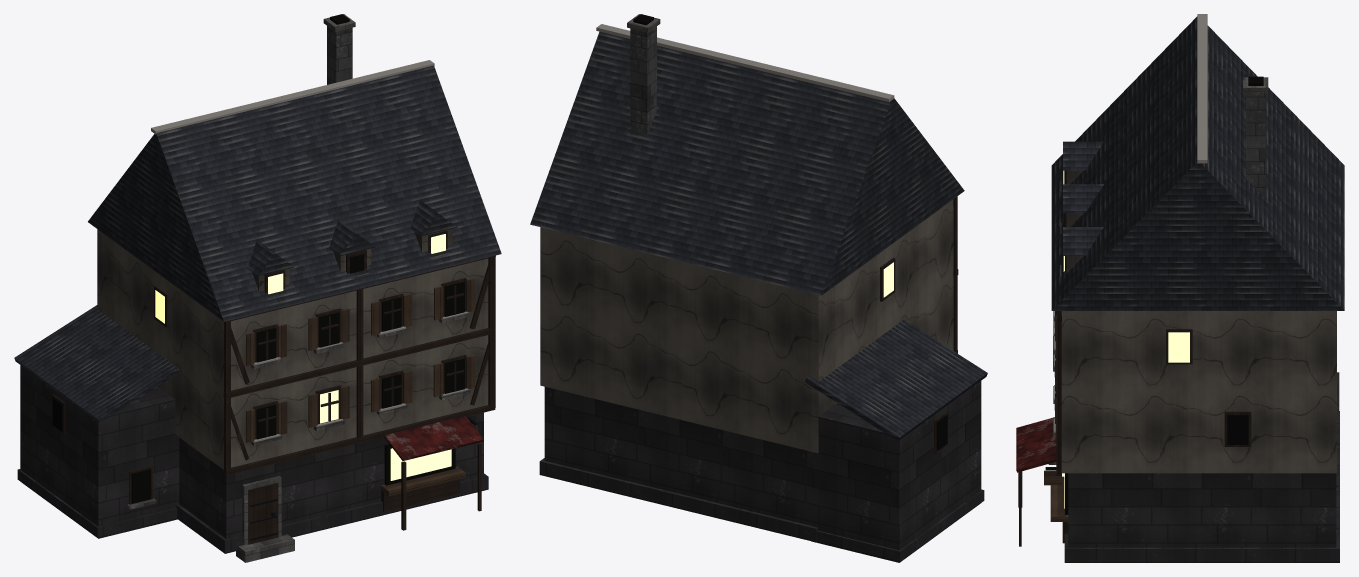
The model's file is CasaB24.gltf.
3 views of the same model, side by side, from view 1: azimuth 30°, elevation 25°; view 2: azimuth 150°, elevation 25°; view 3: azimuth 270°, elevation 25° (orthographic). The views are drawn at different scales.
Parts seen in each view (by area): view 1: CasaB24; view 2: CasaB24; view 3: CasaB24.
Boxes of the visible parts, <box> form: CasaB24: <box>14,14,501,562</box>; CasaB24: <box>530,14,987,562</box>; CasaB24: <box>1016,14,1344,562</box>.
Bounding box in the file's own units: 15.34 × 17.8 × 11.54.
Materials: 12 (8 with a texture image).
